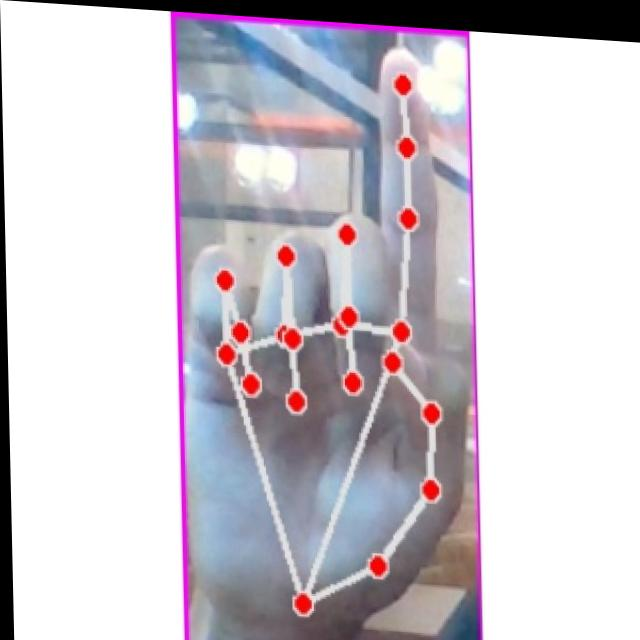D: (185, 22, 471, 634)
